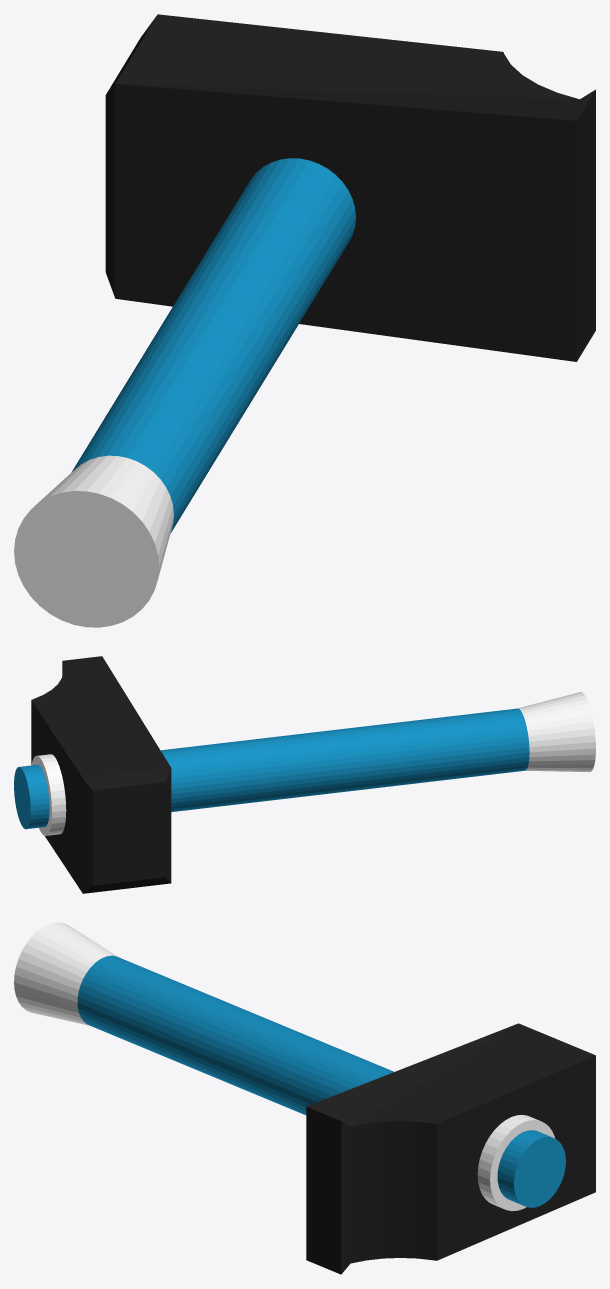
The model's file is uploads_files_2096031_molot1.fbx.
The picture shows the model from 3 angles, top to bottom: view 1: azimuth 30°, elevation 25°; view 2: azimuth 150°, elevation 25°; view 3: azimuth 270°, elevation 25°; orthographic projection. The views are drawn at different scales.
Parts seen in each view (by area): view 1: Boole_1, Cylinder, Cylinder_2; view 2: Cylinder, Boole_1, Cylinder_2, Cylinder_1; view 3: Boole_1, Cylinder, Cylinder_2, Cylinder_1.
Part boxes in pixels (x1=…): Boole_1: x1=105, y1=14, x2=595, y2=361; Cylinder: x1=71, y1=158, x2=355, y2=533; Cylinder_2: x1=14, y1=455, x2=173, y2=627; Cylinder: x1=14, y1=708, x2=529, y2=829; Boole_1: x1=31, y1=656, x2=171, y2=893; Cylinder_2: x1=517, y1=692, x2=595, y2=772; Cylinder_1: x1=31, y1=754, x2=66, y2=835; Boole_1: x1=306, y1=1023, x2=595, y2=1274; Cylinder: x1=77, y1=955, x2=565, y2=1207; Cylinder_2: x1=14, y1=922, x2=117, y2=1025; Cylinder_1: x1=477, y1=1115, x2=555, y2=1211.
Bounding box in the file's own units: 766 × 225 × 771.
